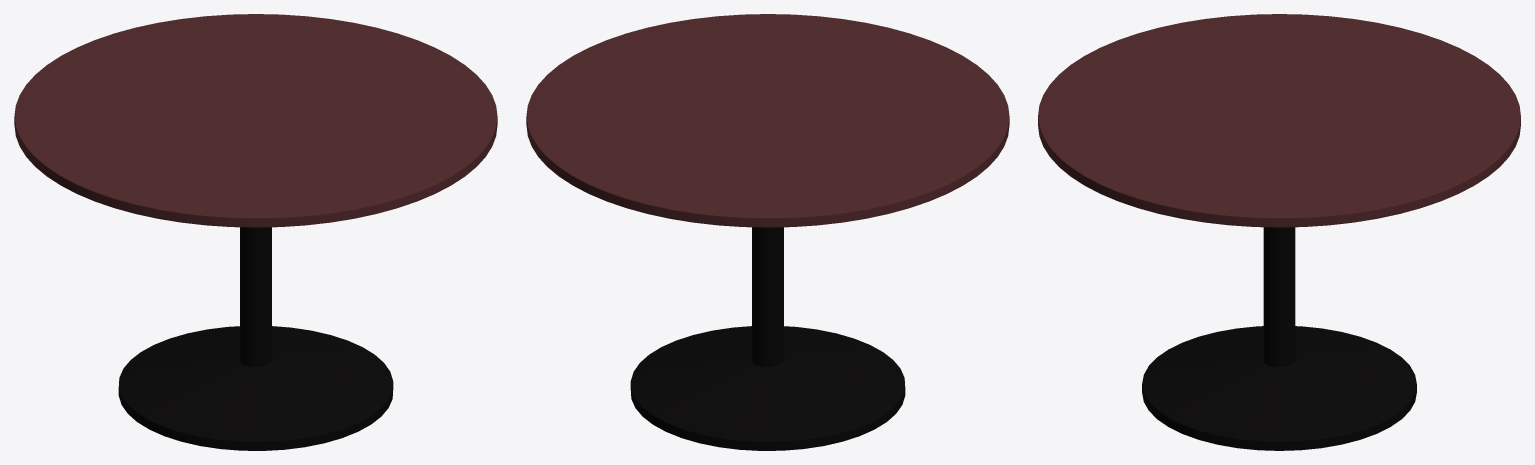
3 views of the same model, side by side, from view 1: azimuth 30°, elevation 25°; view 2: azimuth 150°, elevation 25°; view 3: azimuth 270°, elevation 25° (orthographic).
Parts seen in each view (by area): view 1: pCylinder9, pCylinder10; view 2: pCylinder9, pCylinder10; view 3: pCylinder9, pCylinder10.
Boxes of the visible parts, x1=… form: pCylinder9: x1=14, y1=14, x2=497, y2=227; pCylinder10: x1=118, y1=227, x2=393, y2=450; pCylinder9: x1=526, y1=14, x2=1009, y2=227; pCylinder10: x1=630, y1=227, x2=905, y2=450; pCylinder9: x1=1038, y1=14, x2=1520, y2=227; pCylinder10: x1=1142, y1=227, x2=1416, y2=450.
Bounding box in the file's own units: 0.6512 × 0.4124 × 0.6511.
Materials: 2 (2 with a texture image).
